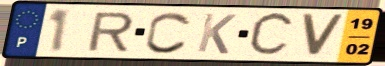1: (45, 7, 71, 54)
C: (245, 10, 297, 60), (143, 10, 194, 56)
K: (194, 11, 239, 56)
R: (85, 11, 137, 53)
V: (299, 12, 347, 59)
